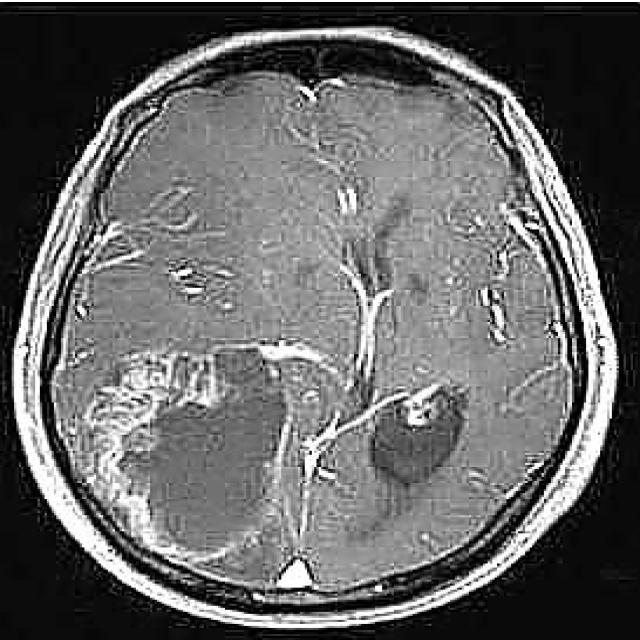Tumor-Cell: (85, 367, 308, 562)
